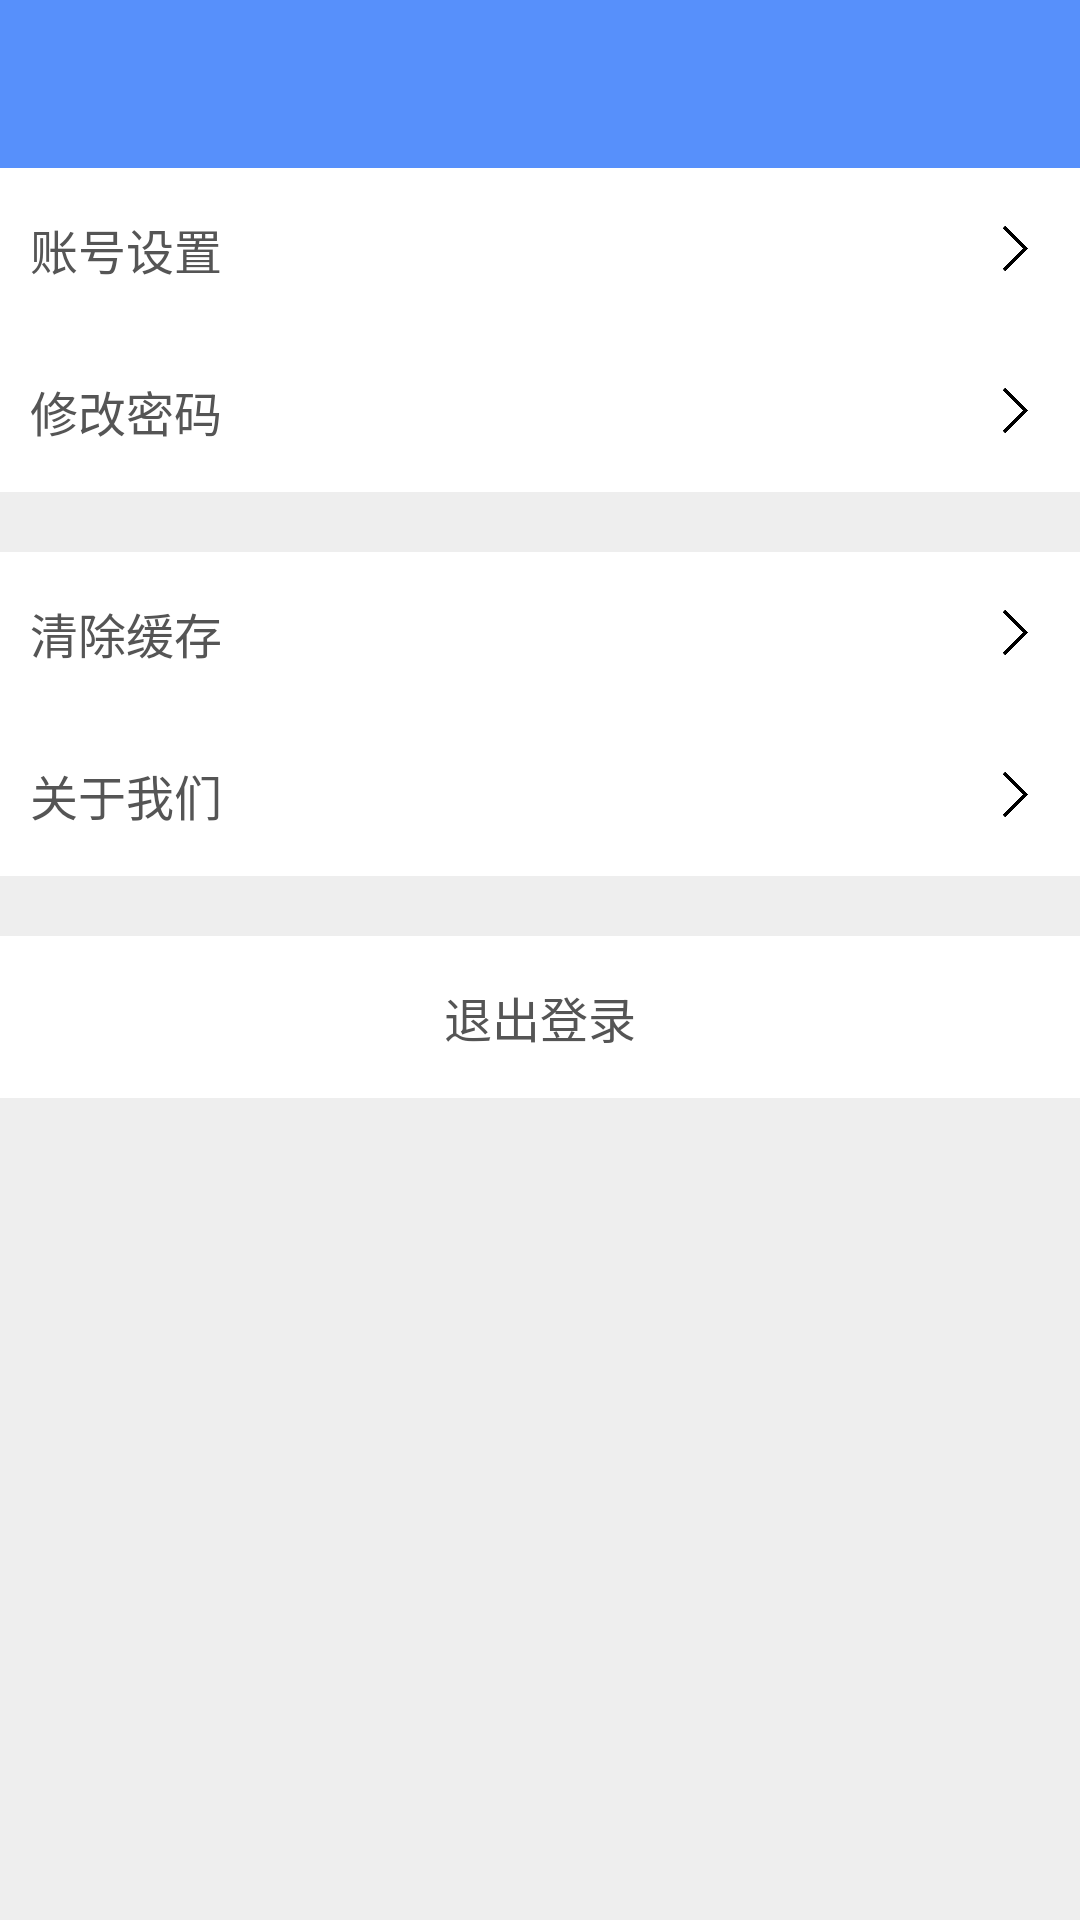

Where icons sit on this 1080 x 1920 app screen, as (x1, y1, x2, y2):
arrow right: (1003, 226, 1028, 271), (1003, 388, 1028, 433), (1003, 610, 1028, 655), (1003, 772, 1028, 817)
